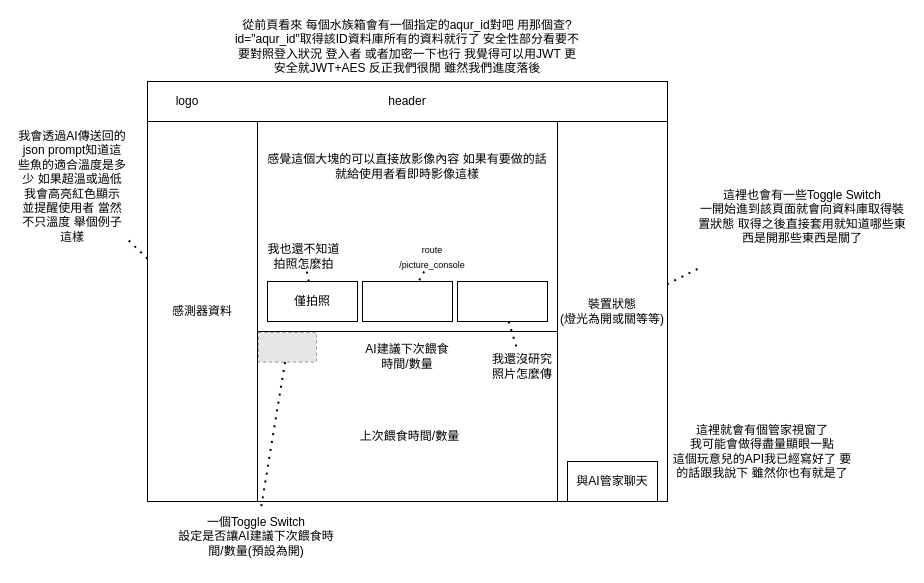
Image size: 924x583. Some labels were removed from this diagram. Grey dashed boxes stand in for pictures. Here are the shapes that lost their labels. From the top down, the centre of each, then its label:
the point at 407,301: 照片管理頁面
the point at 502,301: 拍照並傳送給AI
